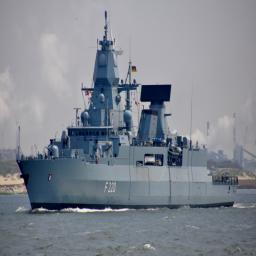Fragata: (17, 8, 240, 215)
